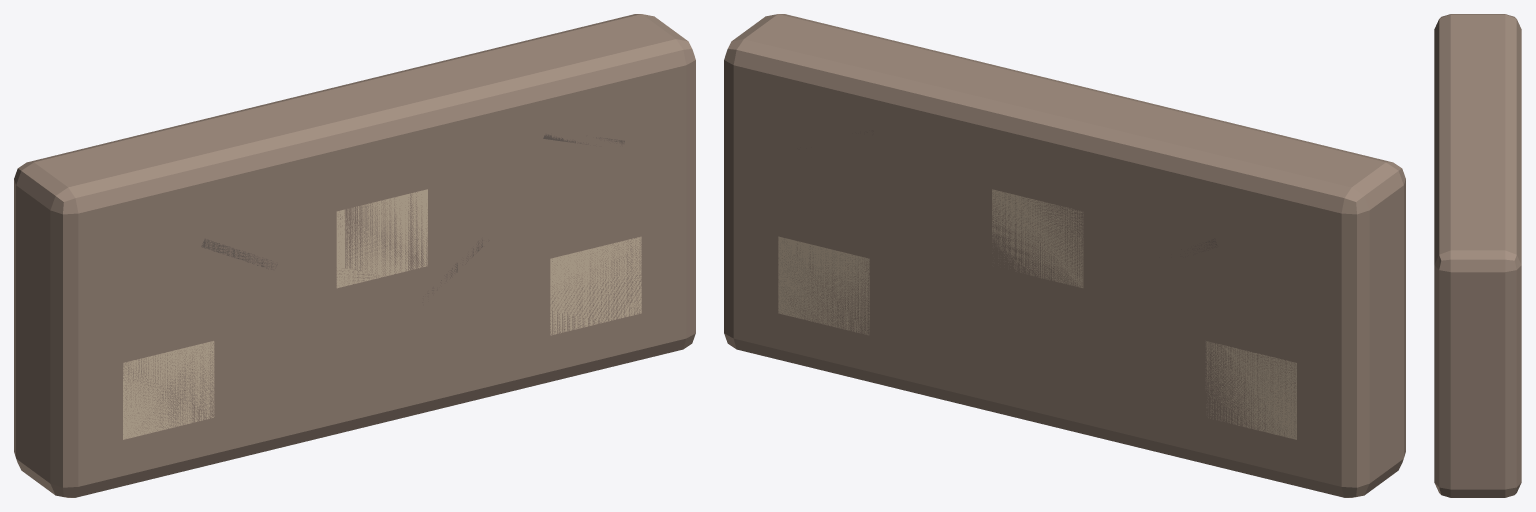
The model's file is wall-collapse.glb.
3 views of the same model, side by side, from view 1: azimuth 30°, elevation 25°; view 2: azimuth 150°, elevation 25°; view 3: azimuth 270°, elevation 25° (orthographic). The views are drawn at different scales.
Visible parts, largest first — view 1: mesh_wall_collapse_body, mesh_wall_collapse_accent, mesh_wall_collapse_crack; view 2: mesh_wall_collapse_body, mesh_wall_collapse_accent; view 3: mesh_wall_collapse_body.
Boxes of the visible parts, box(x1,y1,x2,y2) form: mesh_wall_collapse_body: box(14, 14, 695, 497); mesh_wall_collapse_accent: box(123, 189, 641, 439); mesh_wall_collapse_crack: box(201, 134, 624, 302); mesh_wall_collapse_body: box(724, 14, 1405, 497); mesh_wall_collapse_accent: box(778, 189, 1296, 439); mesh_wall_collapse_body: box(1434, 14, 1521, 497).
Bounding box in the file's own units: 1.08 × 0.5 × 0.16.
